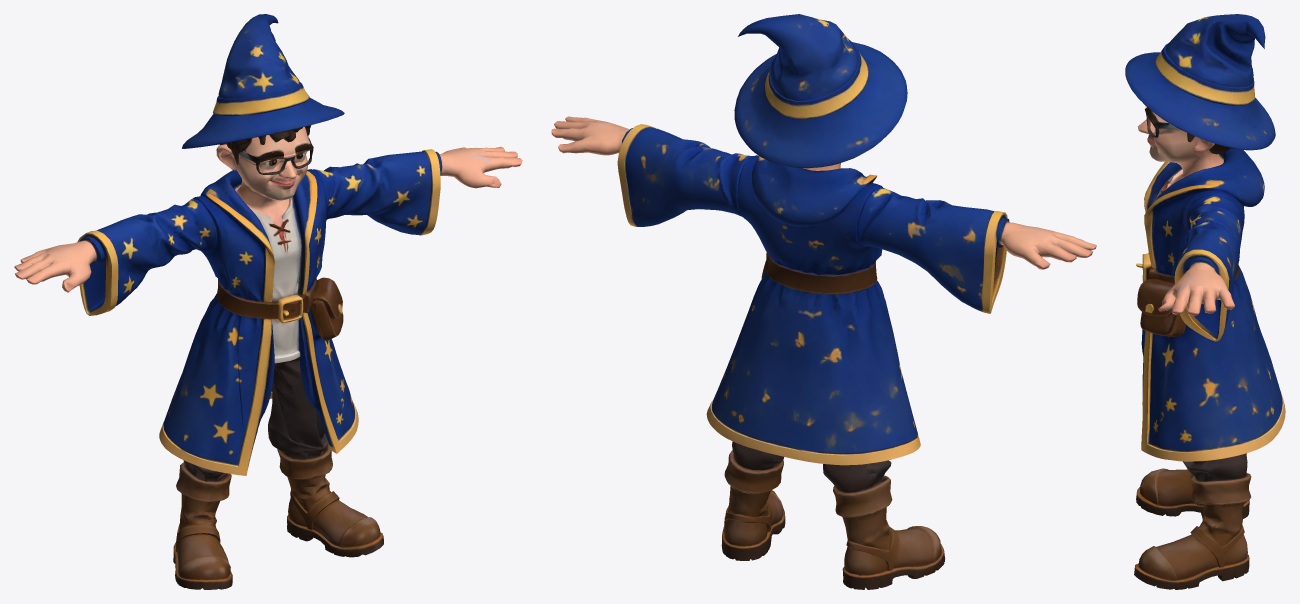
Rendered from charWizard.glb.
The picture shows the model from 3 angles, left to right: view 1: azimuth 30°, elevation 25°; view 2: azimuth 150°, elevation 25°; view 3: azimuth 270°, elevation 25°; orthographic projection. The views are drawn at different scales.
Visible parts, largest first — view 1: model; view 2: model; view 3: model.
Part boxes in pixels (x1,y1,x2,y2): model: (14,14,522,589); model: (551,14,1096,589); model: (1125,14,1285,589).
Bounding box in the file's own units: 1.9 × 1.87 × 0.5089.
1 material, 1 textured.
